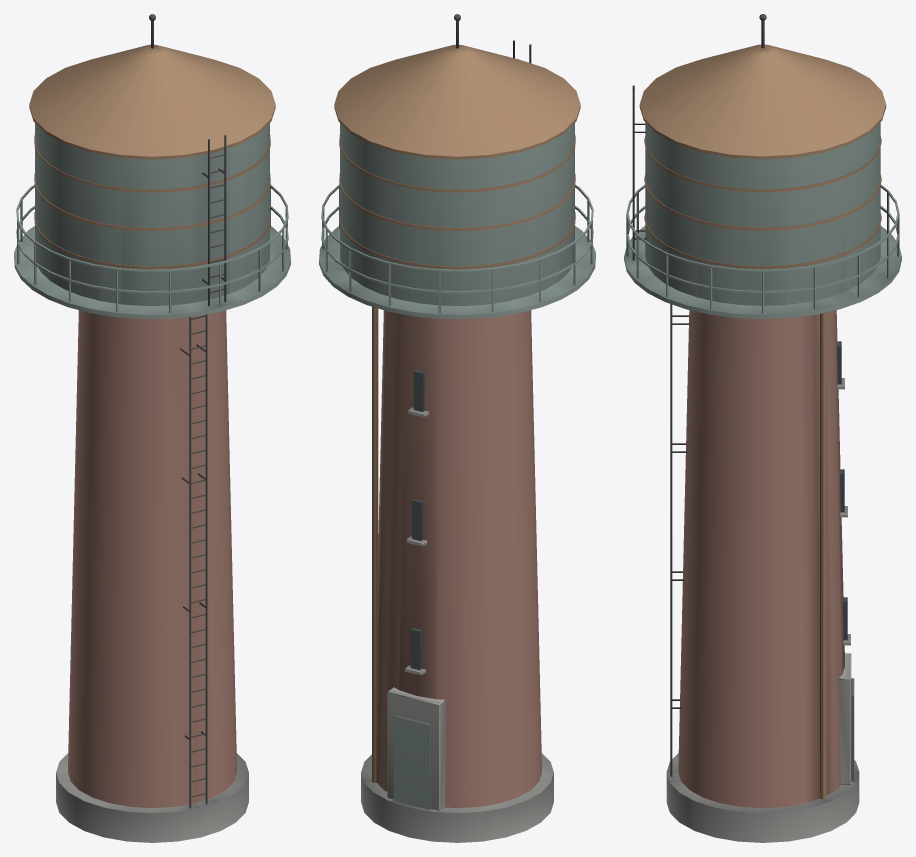
File: water_tower.glb
The picture shows the model from 3 angles, left to right: view 1: azimuth 30°, elevation 25°; view 2: azimuth 150°, elevation 25°; view 3: azimuth 270°, elevation 25°; orthographic projection.
Parts seen in each view (by area): view 1: static; view 2: static; view 3: static.
Boxes of the visible parts, x1,y1,x2,y2 form: static: [14, 14, 290, 842]; static: [319, 14, 595, 842]; static: [624, 14, 901, 842].
Bounding box in the file's own units: 5.9 × 18.48 × 5.9.
